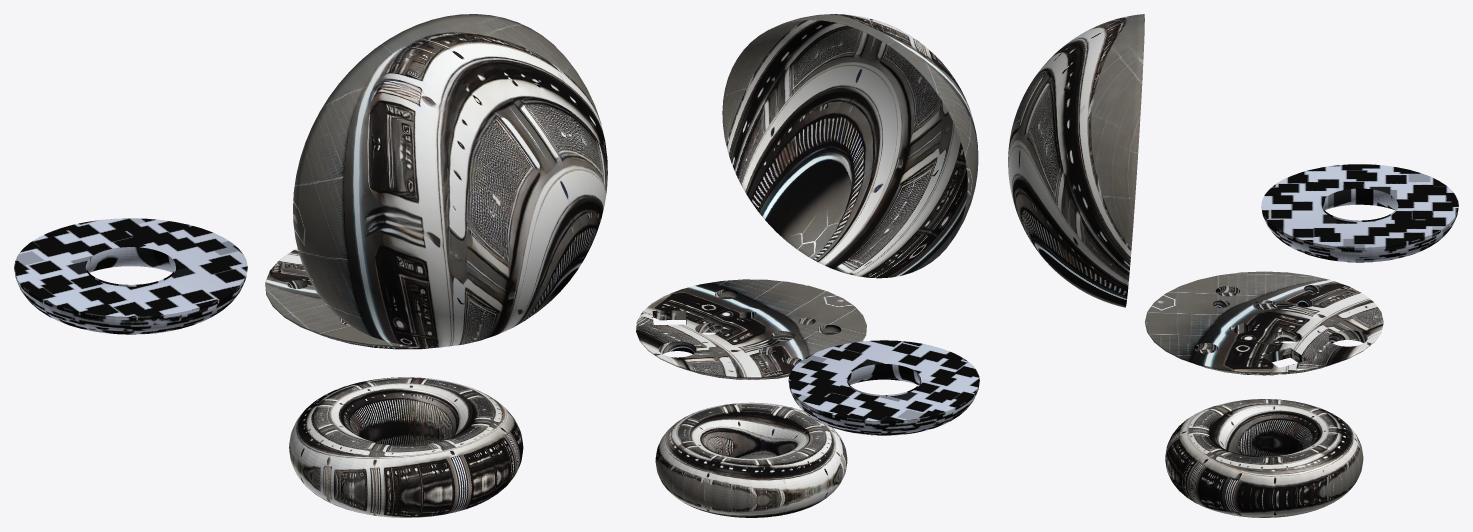
The model's file is disc-br-1.glb.
3 renders of one model, left to right at view 1: azimuth 30°, elevation 25°; view 2: azimuth 150°, elevation 25°; view 3: azimuth 270°, elevation 25°, orthographic. The views are drawn at different scales.
Visible parts, largest first — view 1: Sphere, Torus, Torus.001, Cylinder.001; view 2: Sphere, Torus, Cylinder.001, Torus.001; view 3: Sphere, Cylinder.001, Torus, Torus.001.
Part boxes in pixels (left/top/right/bottom): Sphere: left=293, top=14, right=607, bottom=347; Torus: left=289, top=377, right=523, bottom=517; Torus.001: left=14, top=218, right=247, bottom=334; Cylinder.001: left=265, top=248, right=442, bottom=349; Sphere: left=722, top=14, right=978, bottom=278; Torus: left=655, top=402, right=847, bottom=517; Cylinder.001: left=636, top=279, right=866, bottom=379; Torus.001: left=788, top=340, right=979, bottom=435; Sphere: left=1008, top=14, right=1144, bottom=307; Cylinder.001: left=1145, top=271, right=1383, bottom=375; Torus: left=1165, top=399, right=1363, bottom=517; Torus.001: left=1261, top=164, right=1458, bottom=262.
Bounding box in the file's own units: 35.41 × 40.04 × 36.96.
Materials: 2 (2 with a texture image).
